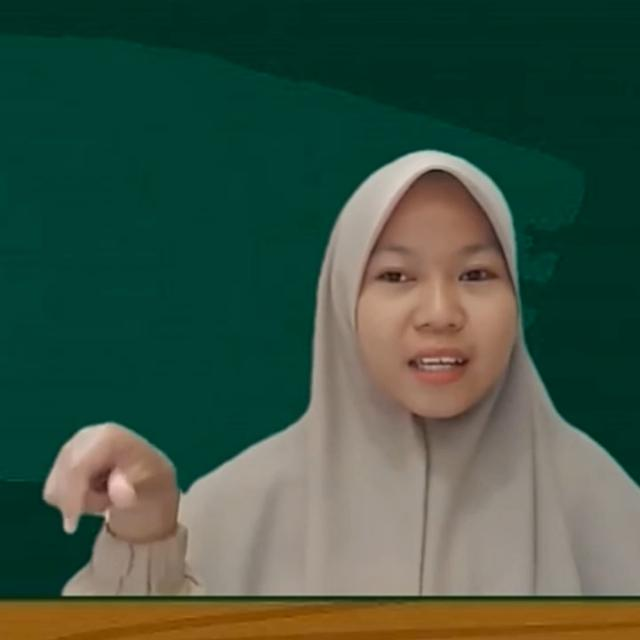Q: (38, 416, 185, 546)
